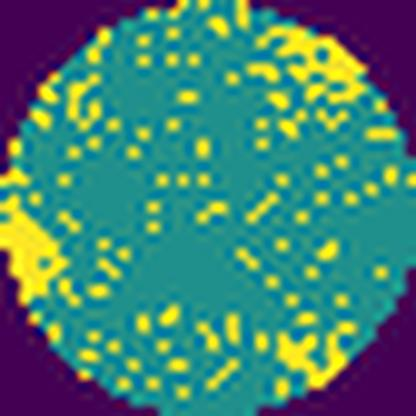Edge-Loc: (254, 8, 378, 104), (0, 192, 68, 304), (276, 314, 356, 398)
